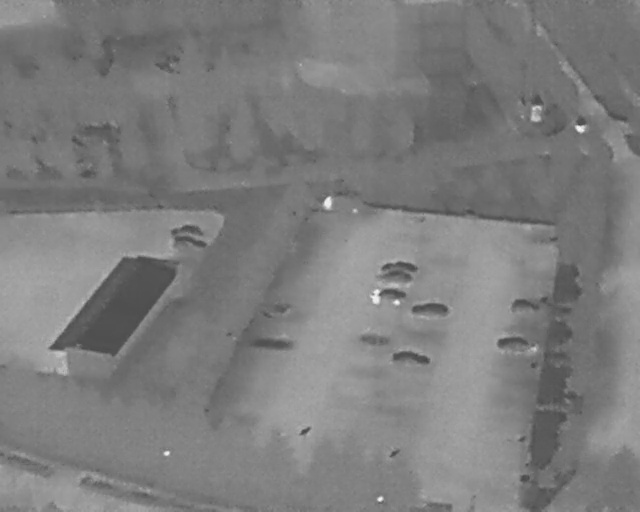Car: (497, 337, 538, 355), (410, 303, 450, 319), (375, 271, 414, 287), (390, 352, 431, 367), (171, 237, 207, 253), (379, 261, 418, 275), (373, 289, 406, 305), (509, 298, 539, 314), (170, 225, 204, 237)
